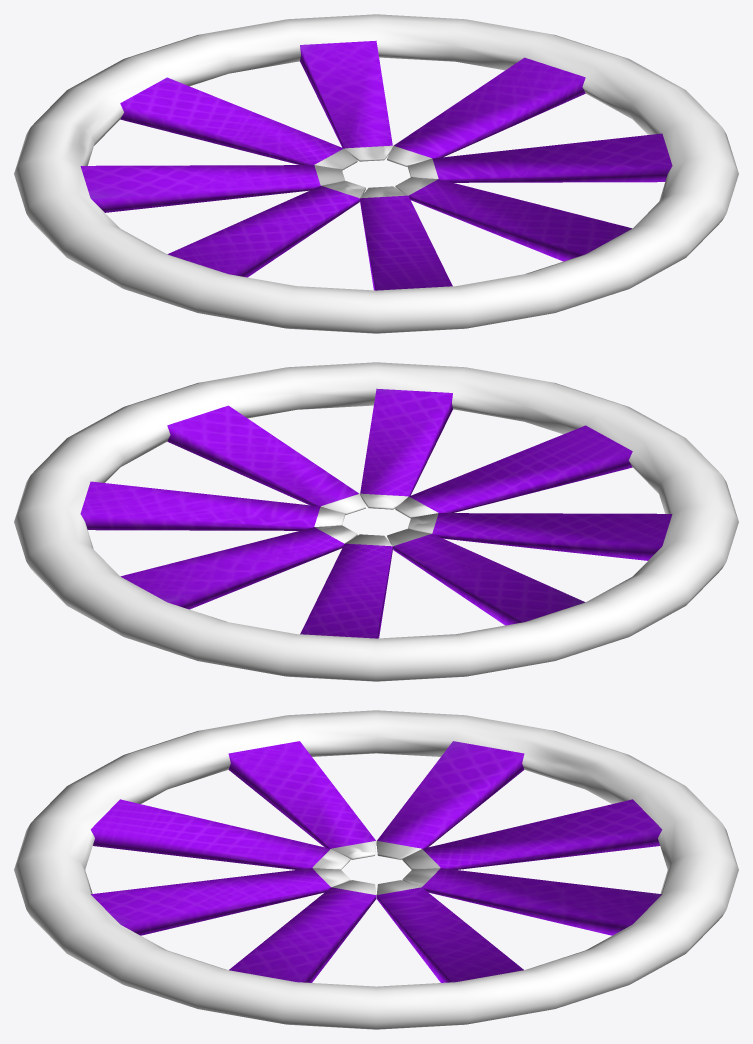
File: Spinny.obj
The picture shows the model from 3 angles, top to bottom: view 1: azimuth 30°, elevation 25°; view 2: azimuth 150°, elevation 25°; view 3: azimuth 270°, elevation 25°; orthographic projection.
Parts seen in each view (by area): view 1: Torus002; view 2: Torus002; view 3: Torus002.
Boxes of the visible parts, <box> form: Torus002: <box>14,14,738,333</box>; Torus002: <box>14,362,738,681</box>; Torus002: <box>14,710,738,1029</box>.
Bounding box in the file's own units: 51.87 × 2.56 × 51.87.
2 materials, 2 textured.
